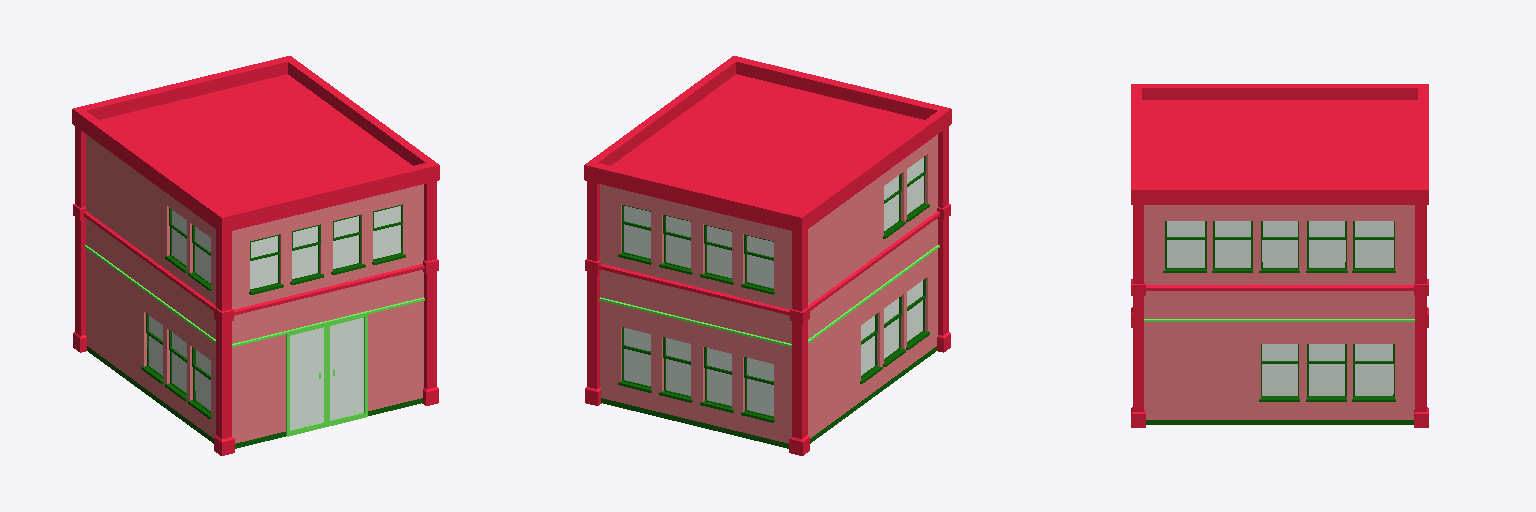
The model's file is building_2.obj.
3 renders of one model, left to right at view 1: azimuth 30°, elevation 25°; view 2: azimuth 150°, elevation 25°; view 3: azimuth 270°, elevation 25°, orthographic.
Visible parts, largest first — view 1: Cube_Cube.001_dfg, Cube_Cube.001_dfgdf, Cube_Cube.001_window_glass, Cube_Cube.001_dg, Cube_Cube.001_Material.001; view 2: Cube_Cube.001_dfg, Cube_Cube.001_dfgdf, Cube_Cube.001_window_glass, Cube_Cube.001_dg, Cube_Cube.001_Material.001; view 3: Cube_Cube.001_dfg, Cube_Cube.001_dfgdf, Cube_Cube.001_window_glass, Cube_Cube.001_dg, Cube_Cube.001_Material.001.
Part boxes in pixels (left/top/right/bottom): Cube_Cube.001_dfg: left=72, top=56, right=439, bottom=455; Cube_Cube.001_dfgdf: left=86, top=134, right=423, bottom=443; Cube_Cube.001_window_glass: left=149, top=206, right=400, bottom=429; Cube_Cube.001_dg: left=87, top=204, right=422, bottom=448; Cube_Cube.001_Material.001: left=84, top=245, right=424, bottom=436; Cube_Cube.001_dfg: left=584, top=56, right=951, bottom=455; Cube_Cube.001_dfgdf: left=600, top=134, right=937, bottom=443; Cube_Cube.001_window_glass: left=624, top=157, right=923, bottom=415; Cube_Cube.001_dg: left=601, top=156, right=936, bottom=448; Cube_Cube.001_Material.001: left=599, top=245, right=939, bottom=346; Cube_Cube.001_dfg: left=1131, top=84, right=1428, bottom=427; Cube_Cube.001_dfgdf: left=1144, top=205, right=1414, bottom=419; Cube_Cube.001_window_glass: left=1167, top=221, right=1393, bottom=395; Cube_Cube.001_dg: left=1146, top=221, right=1413, bottom=424; Cube_Cube.001_Material.001: left=1144, top=319, right=1414, bottom=321.
Size of the model in its own units: 153 by 159 by 181.